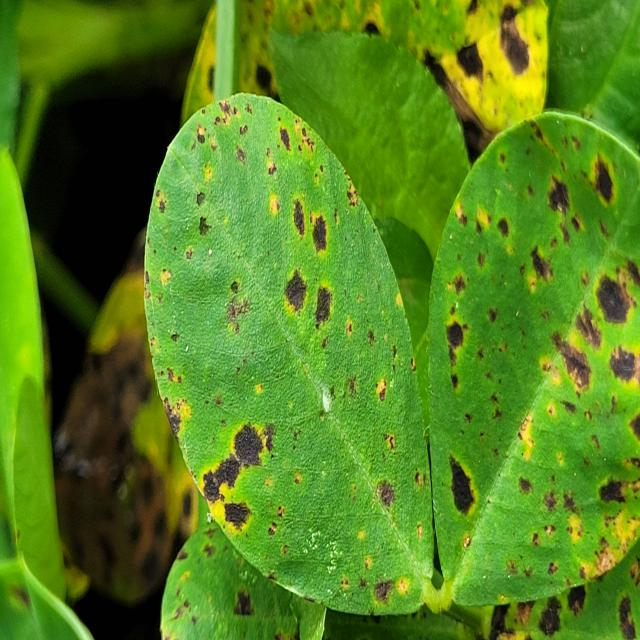Ground nut_tikka leaf spot: (144, 88, 436, 617), (425, 111, 640, 611)
